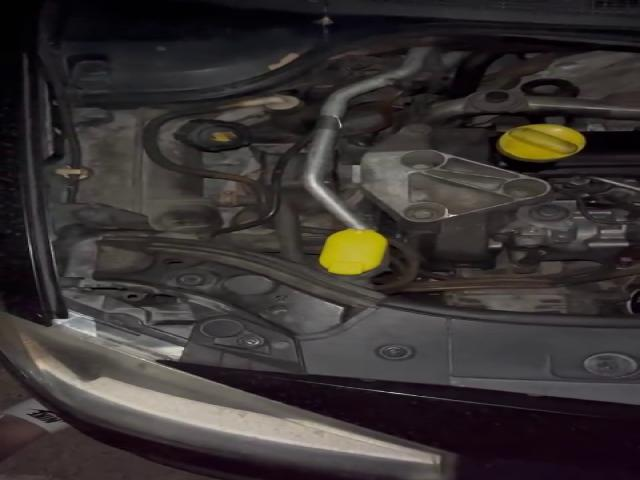antifreeze_tank: (77, 109, 227, 232), (157, 114, 256, 169)
